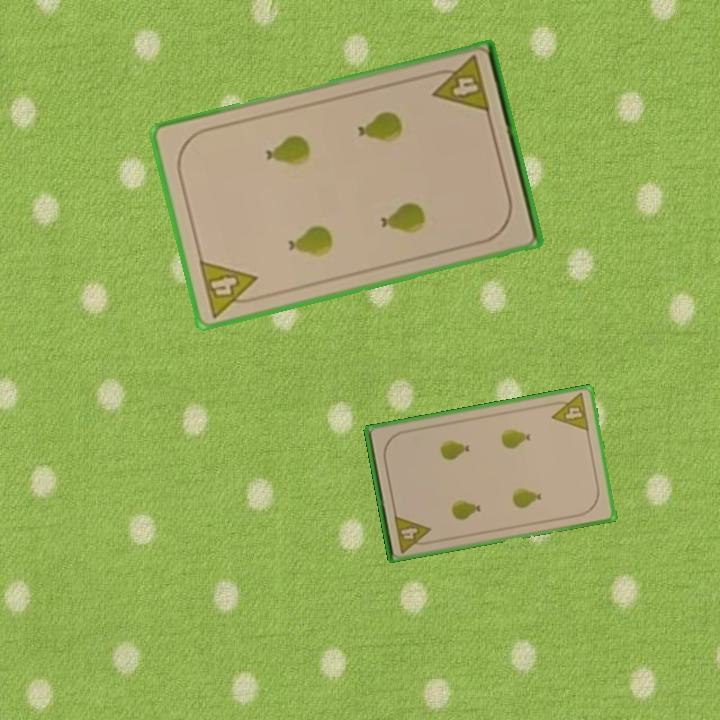4p: (195, 256, 264, 320), (426, 52, 493, 116), (546, 390, 592, 434), (391, 511, 435, 555)
